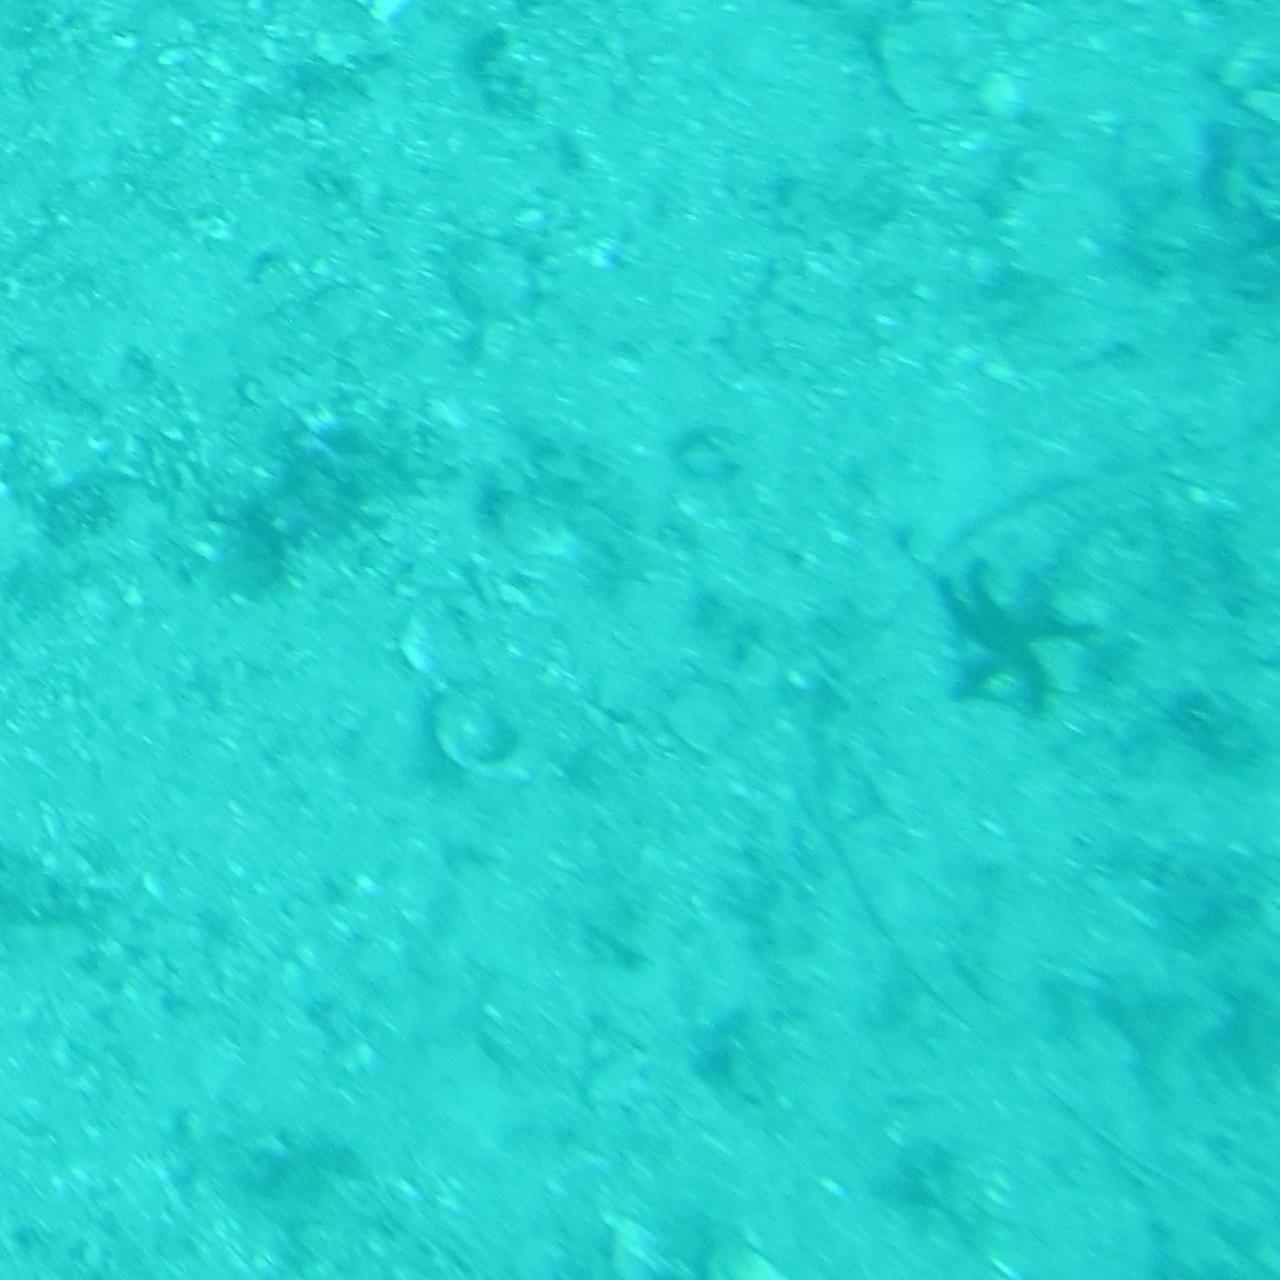Asteroidea: (928, 561, 1102, 719)
